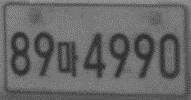0: (158, 32, 181, 79)
4: (81, 31, 106, 78)
8: (9, 30, 31, 76)
9: (132, 32, 156, 79), (108, 32, 130, 78), (33, 31, 55, 76)
마: (56, 40, 80, 78)
